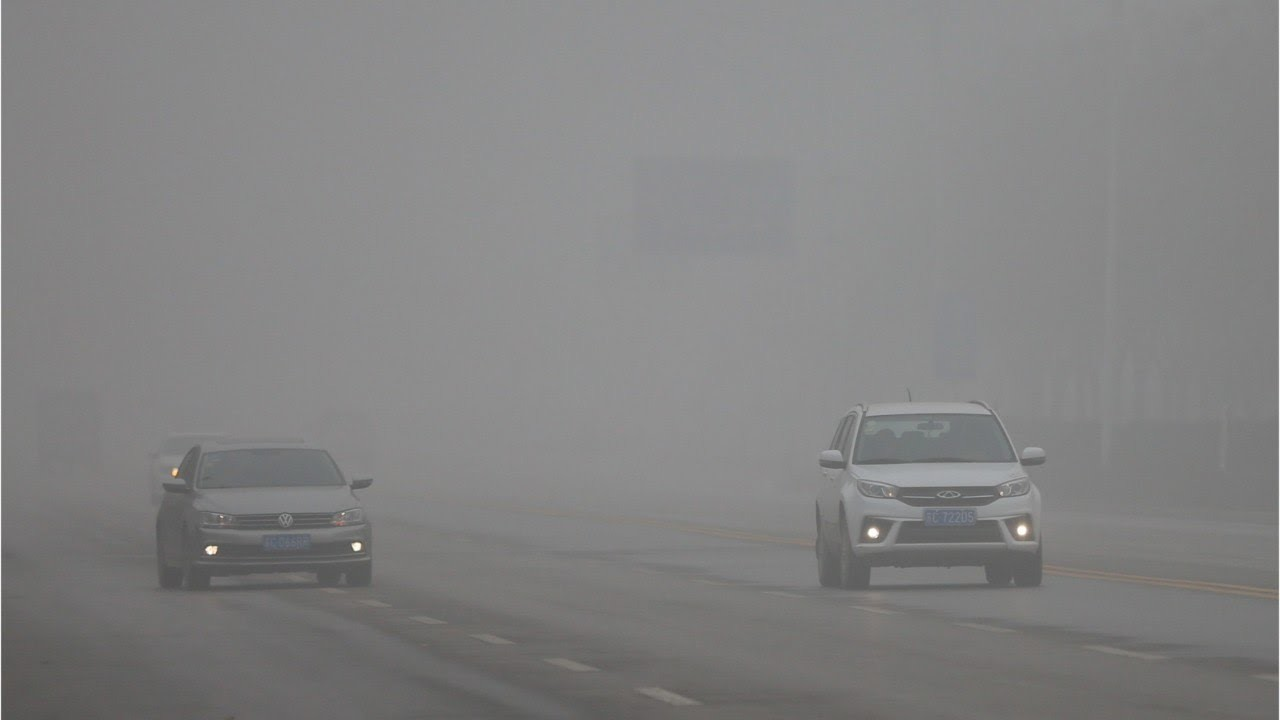car: (813, 399, 1045, 593), (157, 441, 375, 588), (147, 428, 269, 497)
